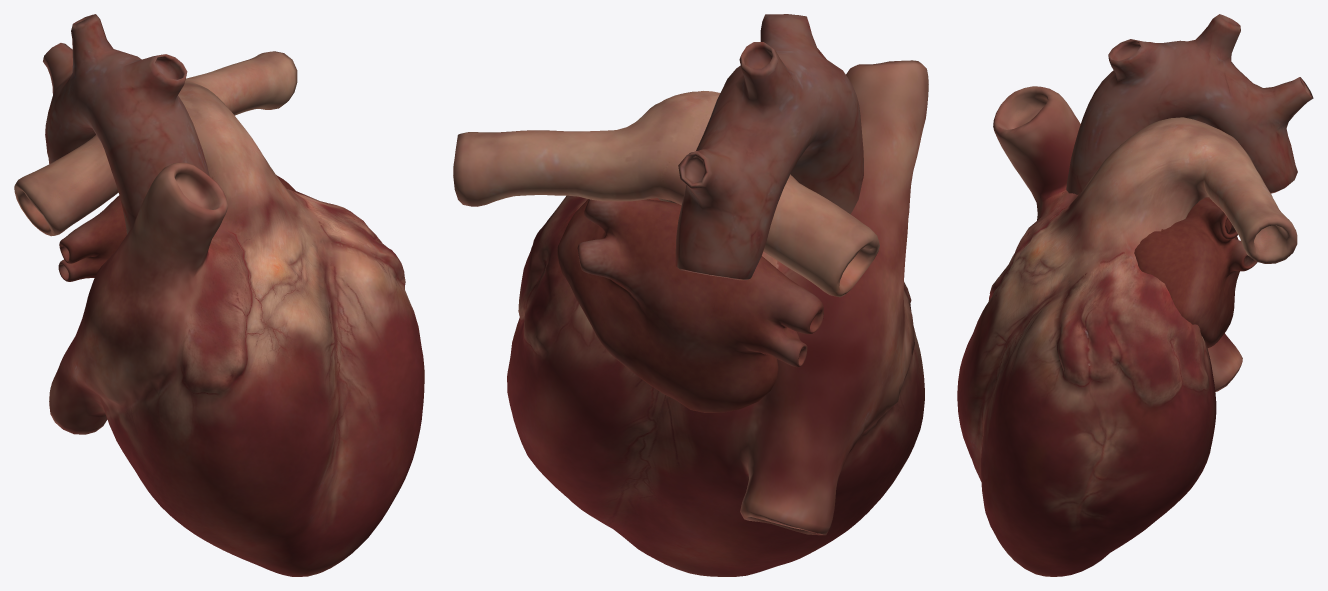
File: heart.glb
3 renders of one model, left to right at view 1: azimuth 30°, elevation 25°; view 2: azimuth 150°, elevation 25°; view 3: azimuth 270°, elevation 25°, orthographic. The views are drawn at different scales.
Parts seen in each view (by area): view 1: heart1, heart2, heart3; view 2: heart1, heart3, heart2; view 3: heart1, heart2, heart3.
Boxes of the visible parts, x1,y1,x2,y2 form: heart1: (14, 51, 424, 576); heart2: (43, 14, 209, 234); heart3: (58, 175, 296, 281); heart1: (453, 60, 928, 576); heart3: (557, 198, 823, 412); heart2: (675, 14, 863, 280); heart1: (957, 86, 1297, 576); heart2: (1066, 14, 1313, 194); heart3: (1134, 197, 1257, 347).
Size of the model in its own units: 0.402 by 0.6089 by 0.3957.
Materials: 3 (3 with a texture image).
